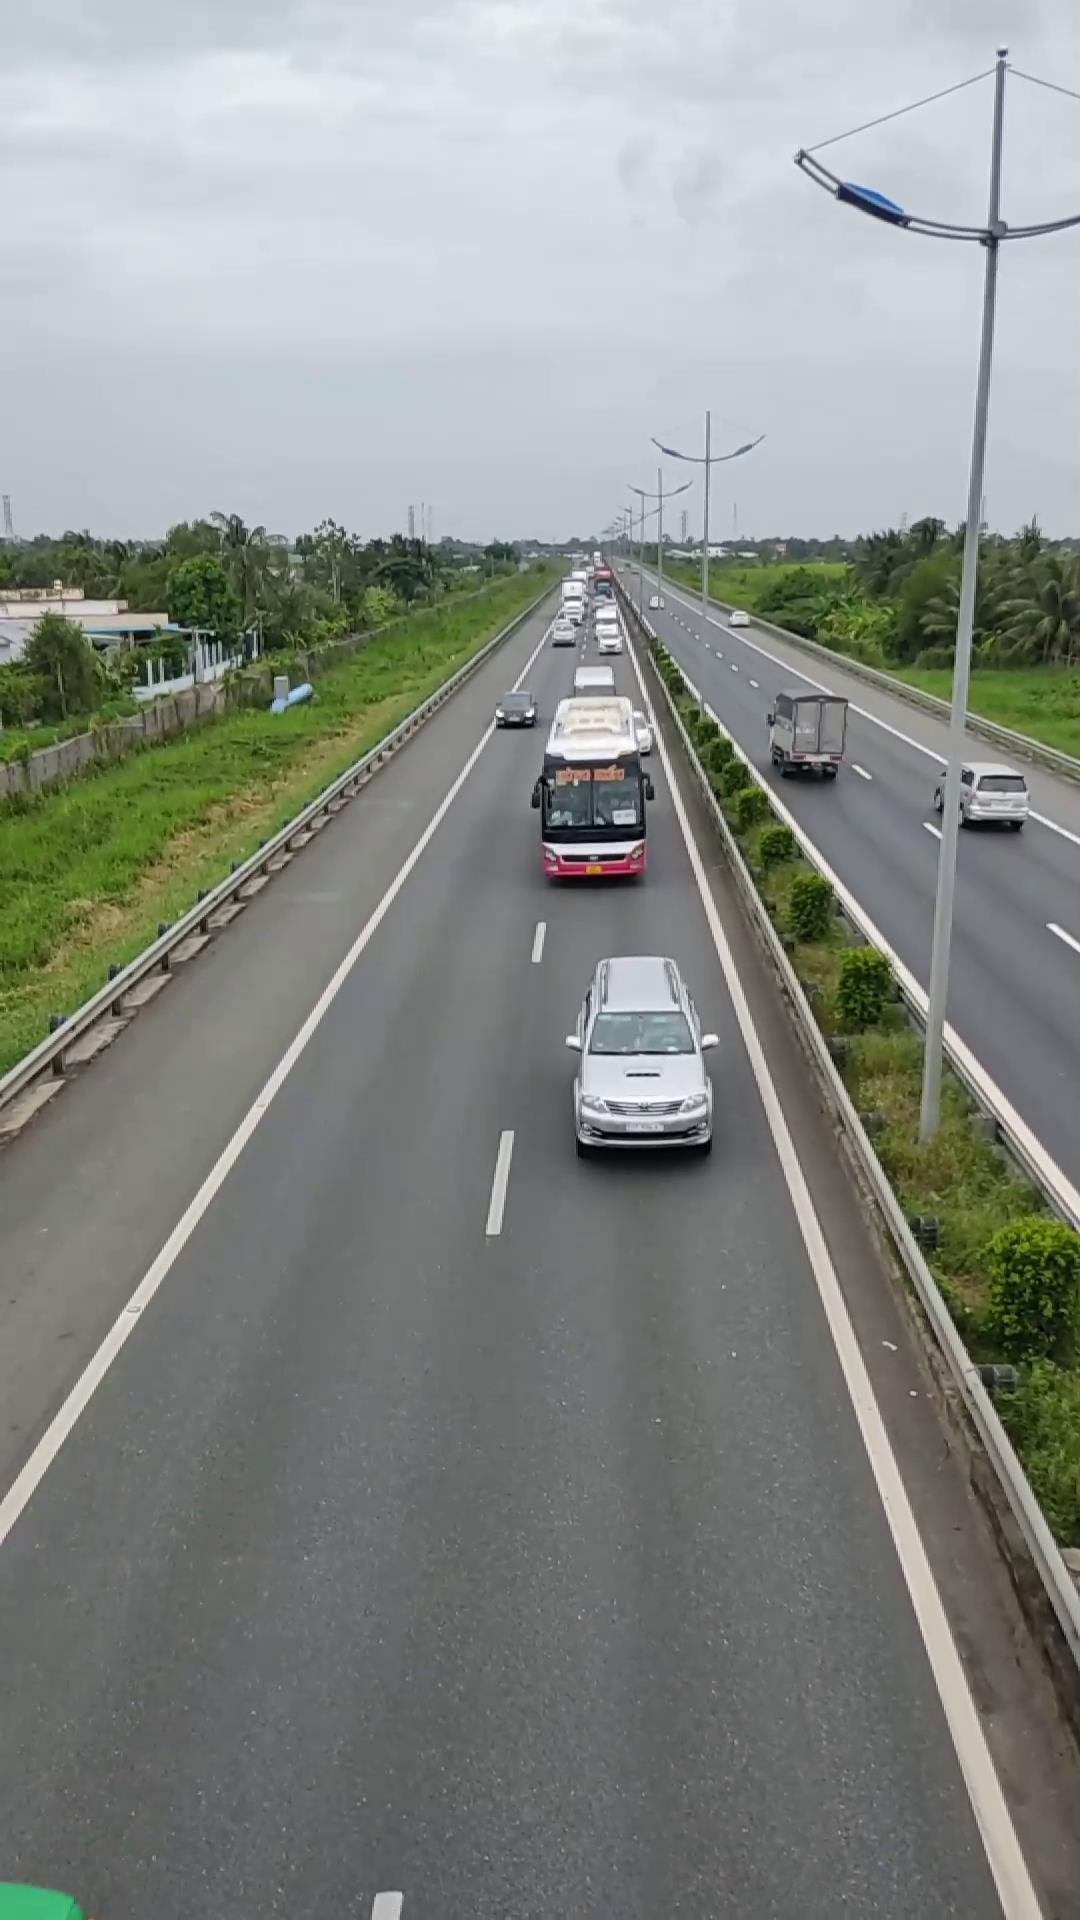bus: (534, 690, 650, 887)
car: (565, 953, 716, 1153), (936, 757, 1030, 830)
truck: (765, 685, 850, 779)
